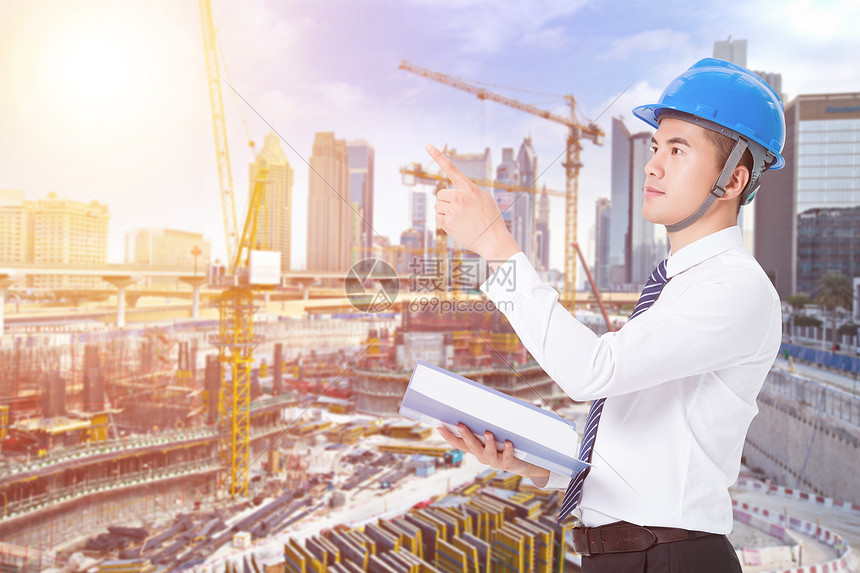safetyhat: (463, 12, 810, 532)
